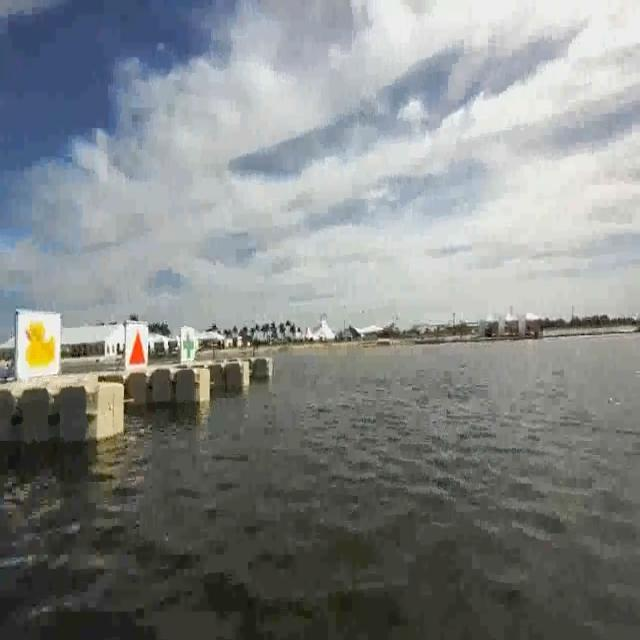blue-cross: (179, 326, 196, 362)
red-dot: (122, 324, 146, 372)
yellow-duck: (24, 316, 57, 369)
